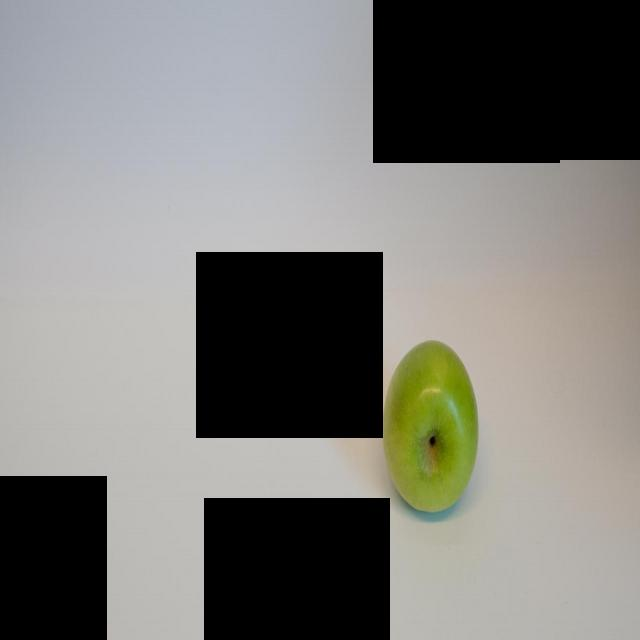apple: (380, 336, 482, 519)
